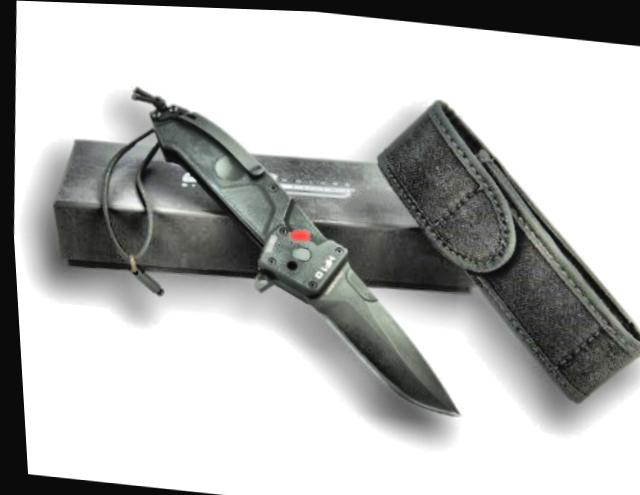knife: (279, 244, 473, 415)
